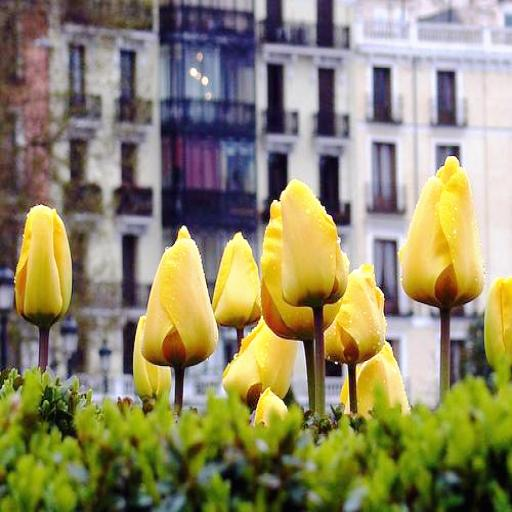tulip: (400, 155, 488, 307), (263, 181, 343, 340), (141, 224, 219, 365), (280, 181, 350, 305), (14, 204, 73, 326)
